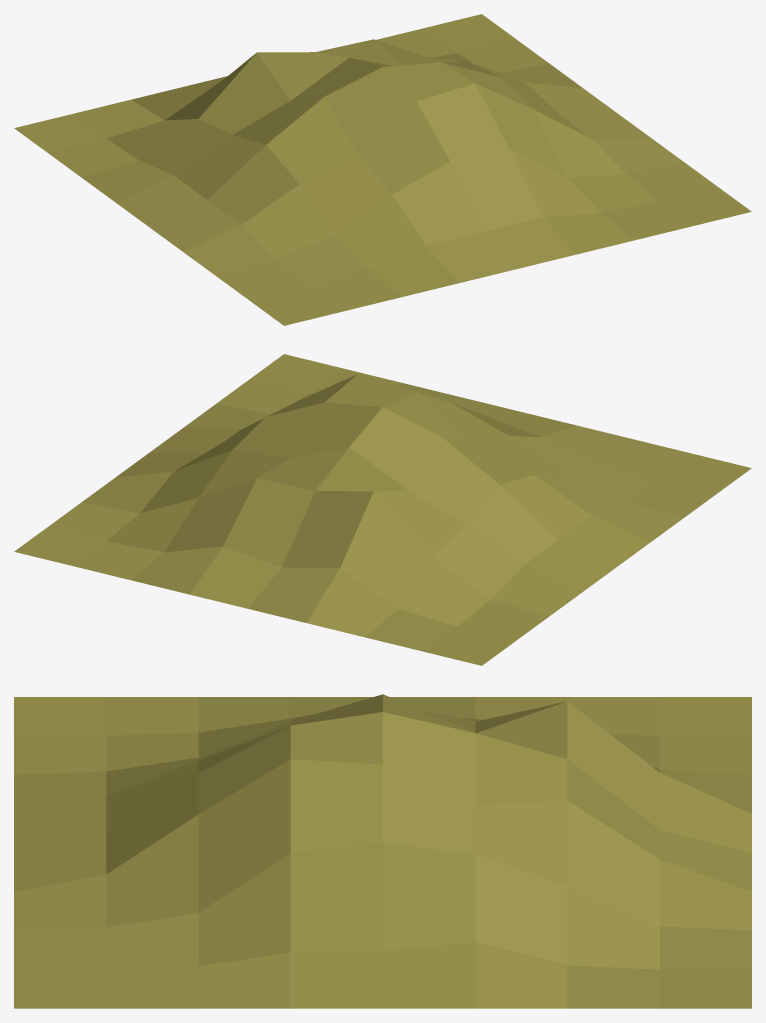
The model's file is Terrain_21_Yellow.fbx.
3 renders of one model, top to bottom at view 1: azimuth 30°, elevation 25°; view 2: azimuth 150°, elevation 25°; view 3: azimuth 270°, elevation 25°, orthographic. The views are drawn at different scales.
Parts seen in each view (by area): view 1: Terrain_21_Yellow; view 2: Terrain_21_Yellow; view 3: Terrain_21_Yellow.
Part boxes in pixels (box(x1,y1,x2,y2)): Terrain_21_Yellow: box(14, 14, 751, 325); Terrain_21_Yellow: box(14, 354, 751, 665); Terrain_21_Yellow: box(14, 694, 751, 1008).
Bounding box in the file's own units: 10000 × 2106 × 10000.
